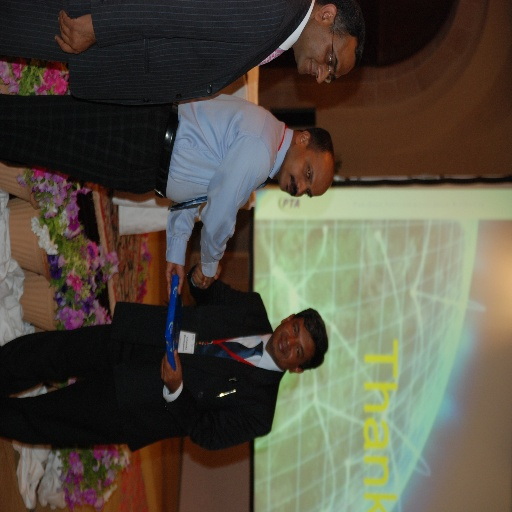hand: (45, 0, 89, 50), (160, 347, 182, 391), (192, 257, 223, 287), (166, 262, 185, 302), (205, 273, 215, 286)
